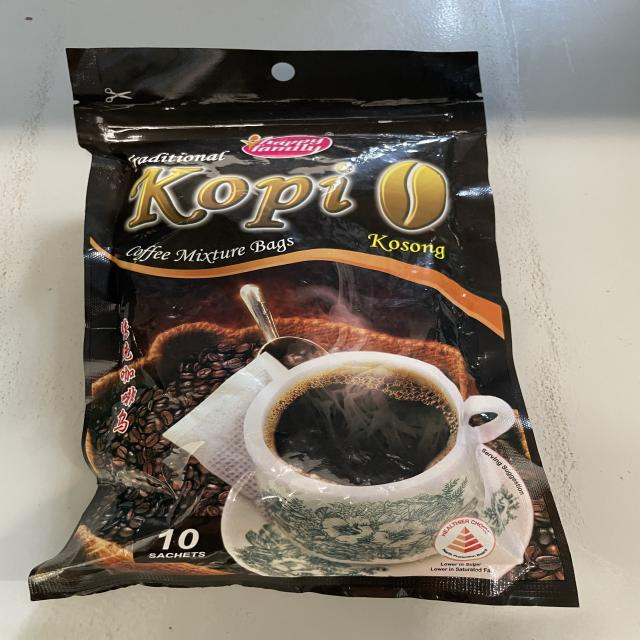object_name: (72, 52, 530, 599)
